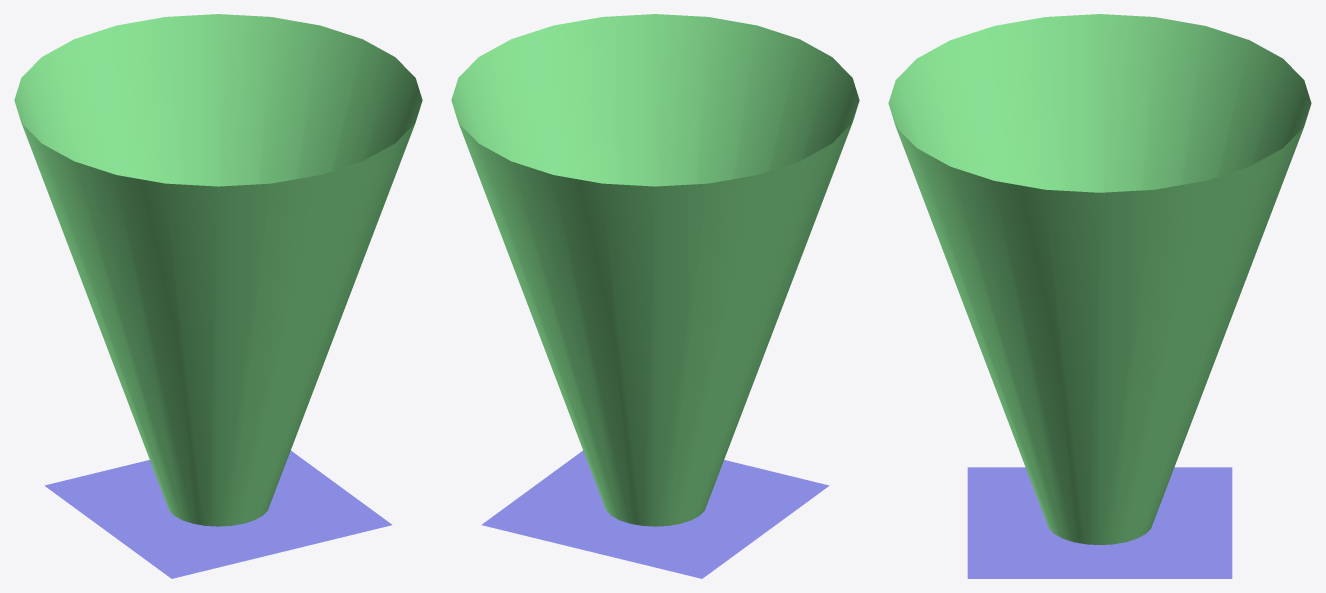
Rendered from Light_DengPian2_1X1_on.FBX.
3 renders of one model, left to right at view 1: azimuth 30°, elevation 25°; view 2: azimuth 150°, elevation 25°; view 3: azimuth 270°, elevation 25°, orthographic. The views are drawn at different scales.
Visible parts, largest first — view 1: Box001; view 2: Box001; view 3: Box001.
Boxes of the visible parts, x1=… form: Box001: x1=14, y1=14, x2=422, y2=578; Box001: x1=451, y1=14, x2=859, y2=578; Box001: x1=888, y1=14, x2=1311, y2=578.
Bounding box in the file's own units: 3.2 × 3.7 × 3.2.
